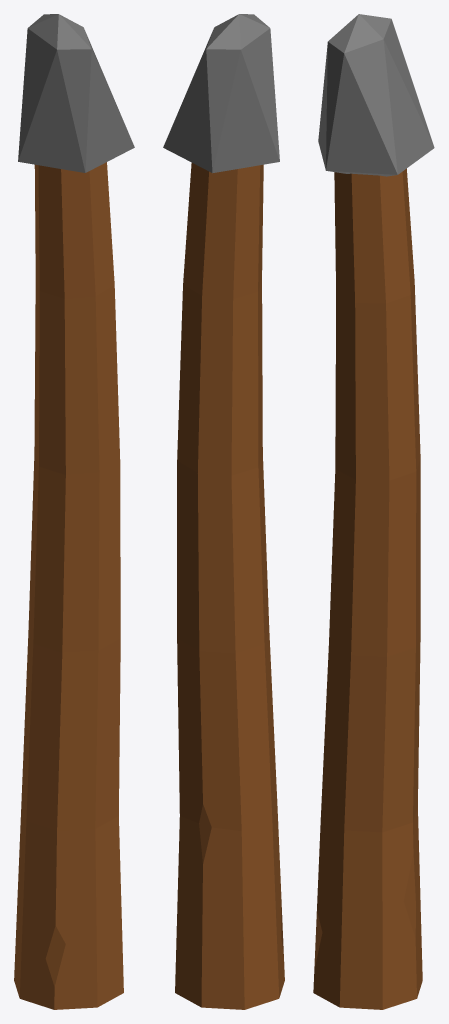
Rendered from spear.fbx.
3 renders of one model, left to right at view 1: azimuth 30°, elevation 25°; view 2: azimuth 150°, elevation 25°; view 3: azimuth 330°, elevation 25°, orthographic.
Visible parts, largest first — view 1: spear; view 2: spear; view 3: spear.
Boxes of the visible parts, x1,y1,x2,y2 form: spear: (14,14,134,1009); spear: (163,14,284,1009); spear: (313,14,434,1009).
Size of the model in its own units: 0.1847 by 1.72 by 0.1917.
